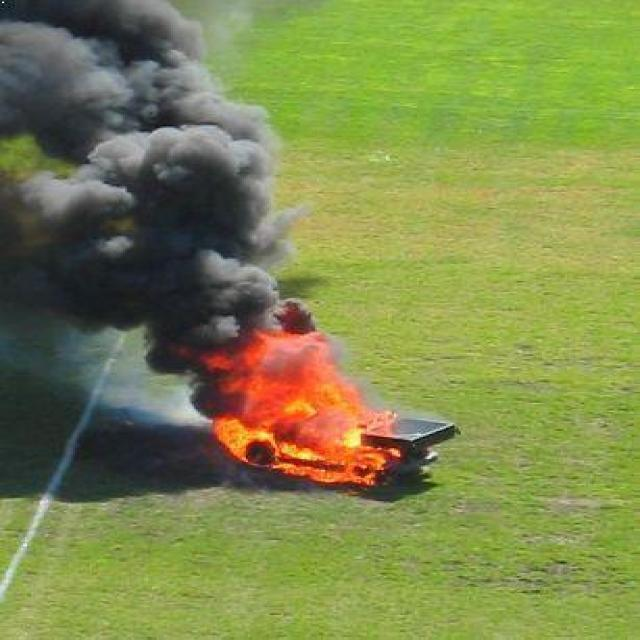Fire: (200, 336, 402, 486)
Smoke: (0, 158, 319, 327), (0, 1, 283, 151)
